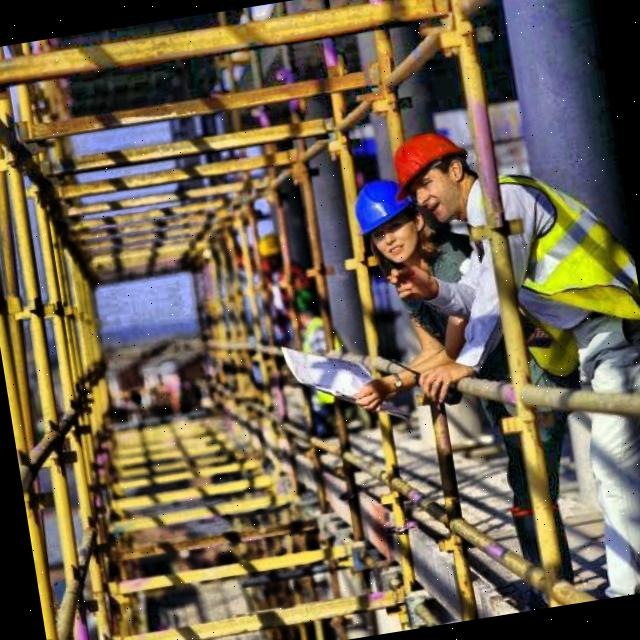helmet: (394, 126, 494, 242), (346, 173, 431, 282), (253, 228, 297, 274)
